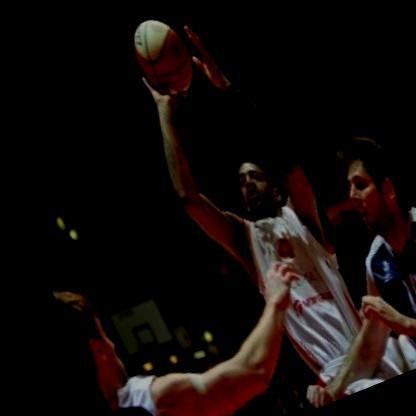basketball: (111, 3, 212, 107)
